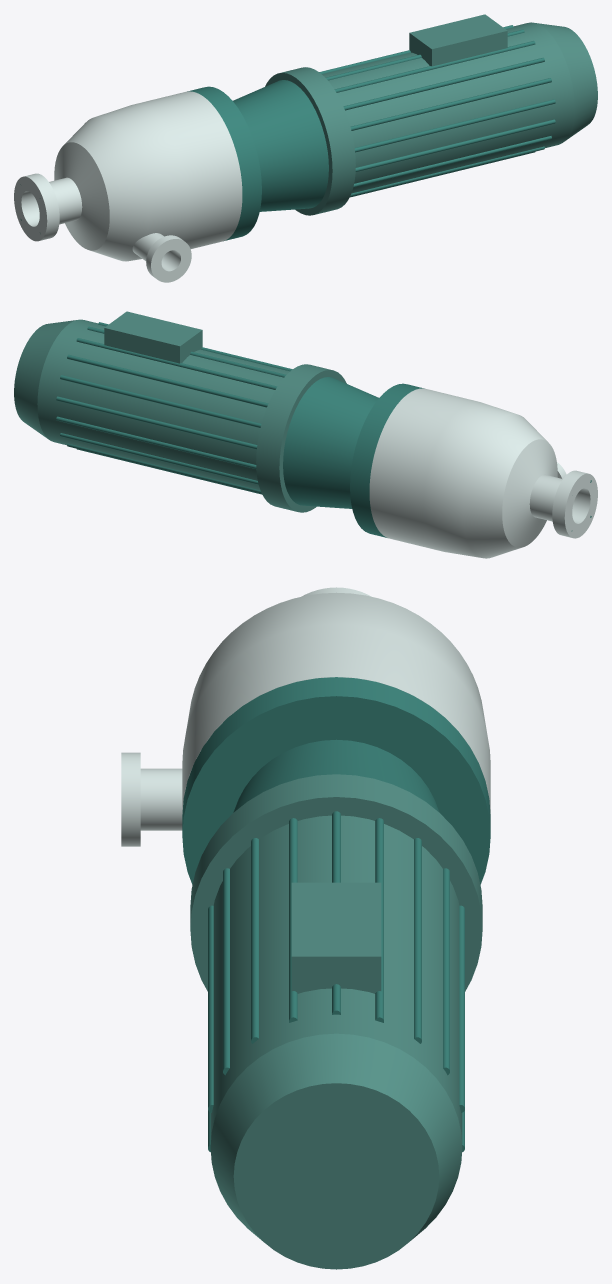
3 views of the same model, one above another, from view 1: azimuth 30°, elevation 25°; view 2: azimuth 150°, elevation 25°; view 3: azimuth 270°, elevation 25° (orthographic). The views are drawn at different scales.
Visible parts, largest first — view 1: 泵体_圆弧壳与轴向进液口, 电机_带筋机壳, 连接座_短连接段, 电机_连接法兰, 电机_接线盒, 连接座_泵壳连接环, 电机_圆弧尾罩, 接口_朝上出液法兰, 电机_散热筋04, 电机_散热筋05, 电机_散热筋03, 电机_散热筋06 (+5 smaller); view 2: 泵体_圆弧壳与轴向进液口, 电机_带筋机壳, 连接座_短连接段, 电机_连接法兰, 电机_接线盒, 连接座_泵壳连接环, 电机_圆弧尾罩, 电机_散热筋16, 电机_散热筋15, 电机_散热筋17, 电机_散热筋14, 电机_散热筋18 (+4 smaller); view 3: 电机_圆弧尾罩, 电机_带筋机壳, 泵体_圆弧壳与轴向进液口, 连接座_泵壳连接环, 电机_连接法兰, 电机_接线盒, 连接座_短连接段, 接口_偏置竖向出液管, 接口_朝上出液法兰, 电机_散热筋03, 电机_散热筋17, 电机_散热筋04 (+6 smaller).
Boxes of the visible parts, x1,y1,x2,y2 form: 泵体_圆弧壳与轴向进液口: (14,91,242,261); 电机_带筋机壳: (322,22,574,193); 连接座_短连接段: (233,80,328,211); 电机_连接法兰: (265,67,355,215); 电机_接线盒: (409,14,507,66); 连接座_泵壳连接环: (187,86,261,241); 电机_圆弧尾罩: (536,23,597,141); 接口_朝上出液法兰: (146,235,191,282); 电机_散热筋04: (350,78,551,130); 电机_散热筋05: (354,99,555,152); 电机_散热筋03: (343,57,544,110); 电机_散热筋06: (355,119,555,171); 泵体_圆弧壳与轴向进液口: (369,388,597,558); 电机_带筋机壳: (37,319,289,490); 连接座_短连接段: (283,377,378,508); 电机_连接法兰: (256,364,346,512); 电机_接线盒: (104,311,202,363); 连接座_泵壳连接环: (350,383,424,537); 电机_圆弧尾罩: (14,320,76,438); 电机_散热筋16: (60,375,261,427); 电机_散热筋15: (56,396,257,449); 电机_散热筋17: (67,354,268,407); 电机_散热筋14: (56,416,256,468); 电机_散热筋18: (76,338,277,389); 电机_圆弧尾罩: (210,1033,462,1269); 电机_带筋机壳: (210,815,462,1143); 泵体_圆弧壳与轴向进液口: (182,587,490,813); 连接座_泵壳连接环: (182,677,490,884); 电机_连接法兰: (190,774,482,991); 电机_接线盒: (291,882,381,993); 连接座_短连接段: (233,739,439,812); 接口_偏置竖向出液管: (140,768,182,830); 接口_朝上出液法兰: (121,752,140,846); 电机_散热筋03: (251,838,258,1043); 电机_散热筋17: (414,838,421,1043); 电机_散热筋04: (223,868,229,1075).
Size of the model in its own units: 2.03 by 0.5096 by 0.598.
